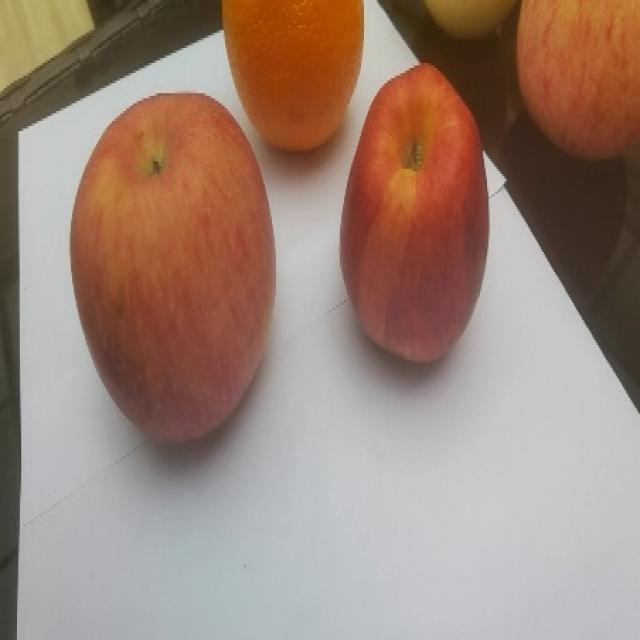Apple: (66, 90, 276, 442), (338, 58, 496, 373), (515, 0, 640, 167)
Orange: (218, 0, 367, 149)
